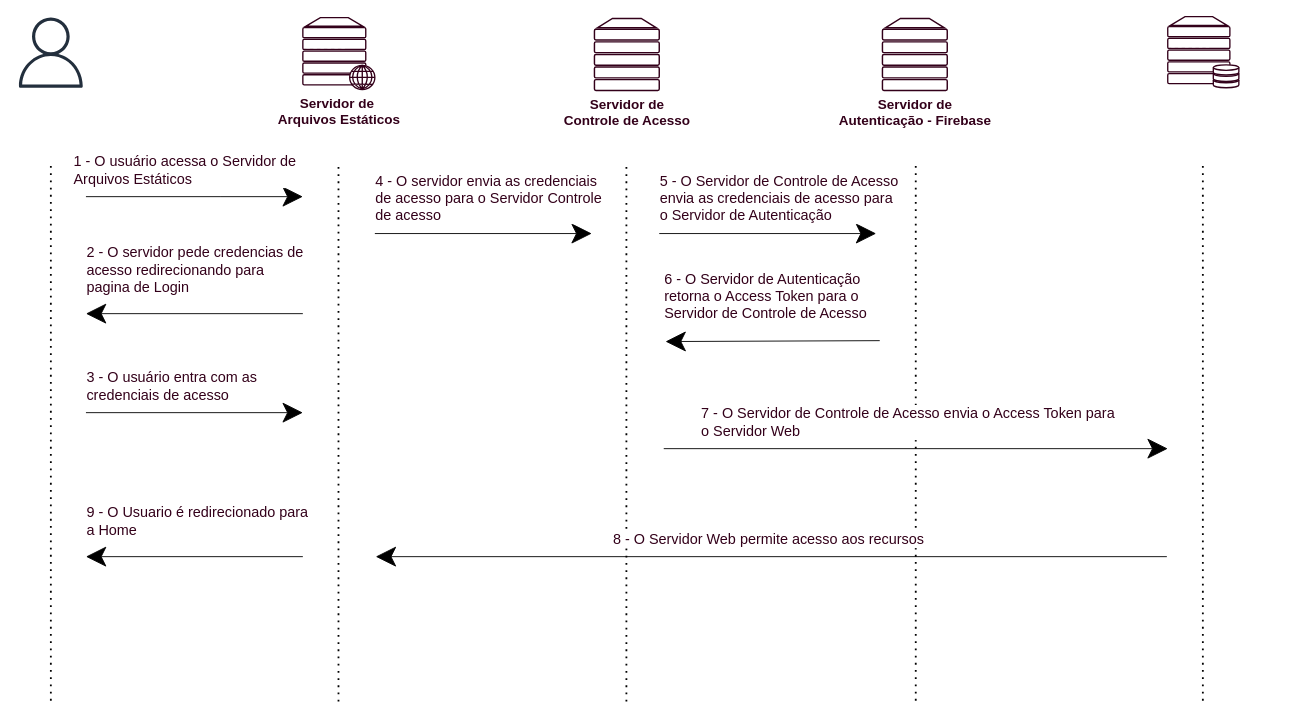
Some shapes in this 1290 by 718 pixel diagram are drawn without their labels. The centre of each missing label's shape, as x and y in pixels:
"Servidor de Aplicação" goes at [1202,51].
"Usuário" goes at [50,52].
